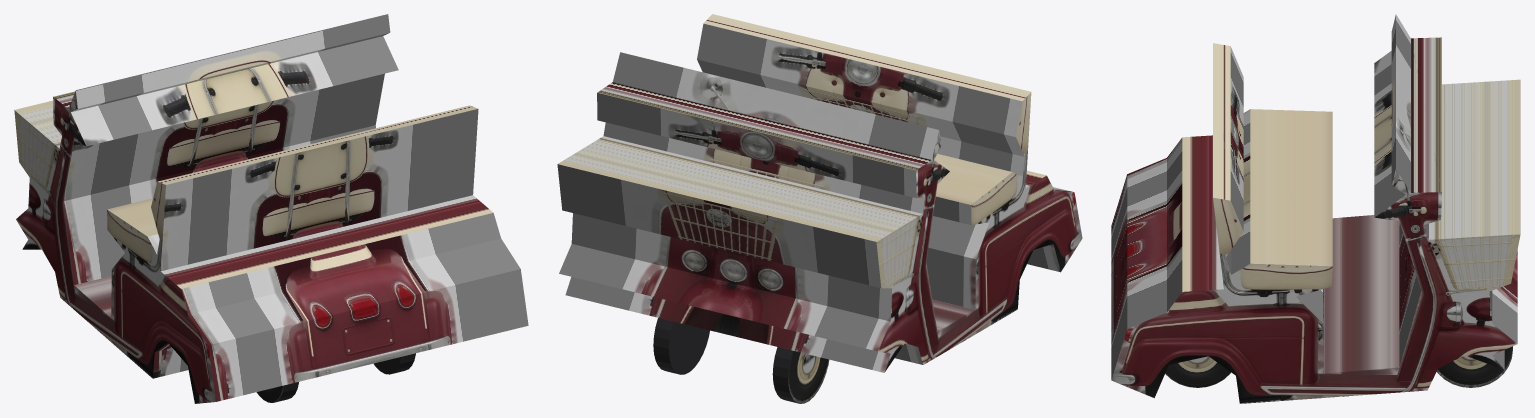
File: mobility_scooter.glb
3 views of the same model, side by side, from view 1: azimuth 30°, elevation 25°; view 2: azimuth 150°, elevation 25°; view 3: azimuth 270°, elevation 25° (orthographic). The views are drawn at different scales.
Visible parts, largest first — view 1: mobility_scooter, wheel_BR, wheel_BL; view 2: mobility_scooter, wheel_FR, wheel_FL; view 3: mobility_scooter, wheel_FR, wheel_BR.
Part boxes in pixels (left/top/right/bottom): mobility_scooter: left=14, top=14, right=528, bottom=403; wheel_BR: left=374, top=353, right=415, bottom=374; wheel_BL: left=256, top=382, right=298, bottom=402; mobility_scooter: left=557, top=14, right=1082, bottom=372; wheel_FR: left=653, top=318, right=709, bottom=374; wheel_FL: left=772, top=347, right=829, bottom=403; mobility_scooter: left=1111, top=14, right=1520, bottom=403; wheel_FR: left=1436, top=346, right=1512, bottom=387; wheel_BR: left=1165, top=356, right=1230, bottom=387.
Size of the model in its own units: 1.25 by 0.9956 by 1.4.
3 materials, 1 textured.
